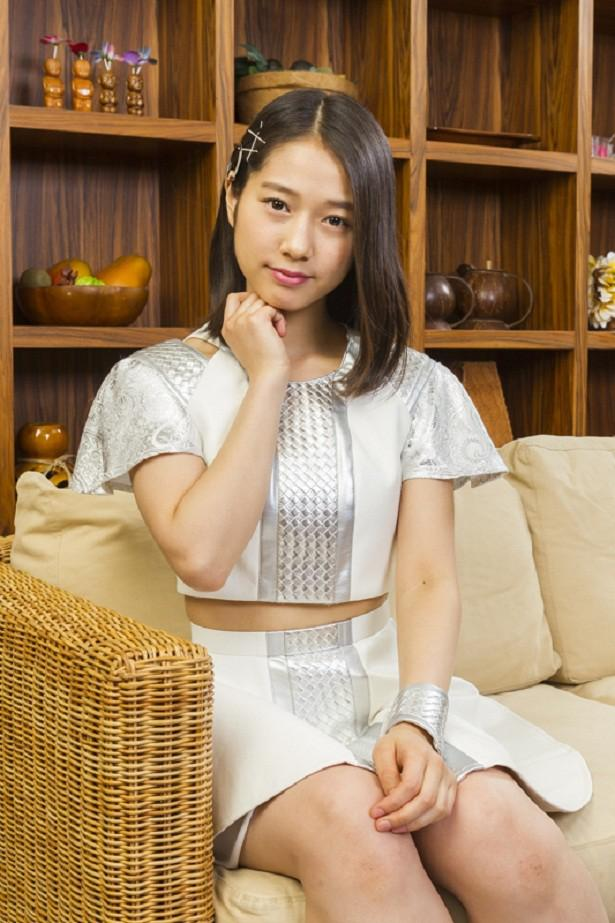face: (225, 144, 354, 309)
hand: (370, 720, 457, 836), (217, 291, 296, 382)
